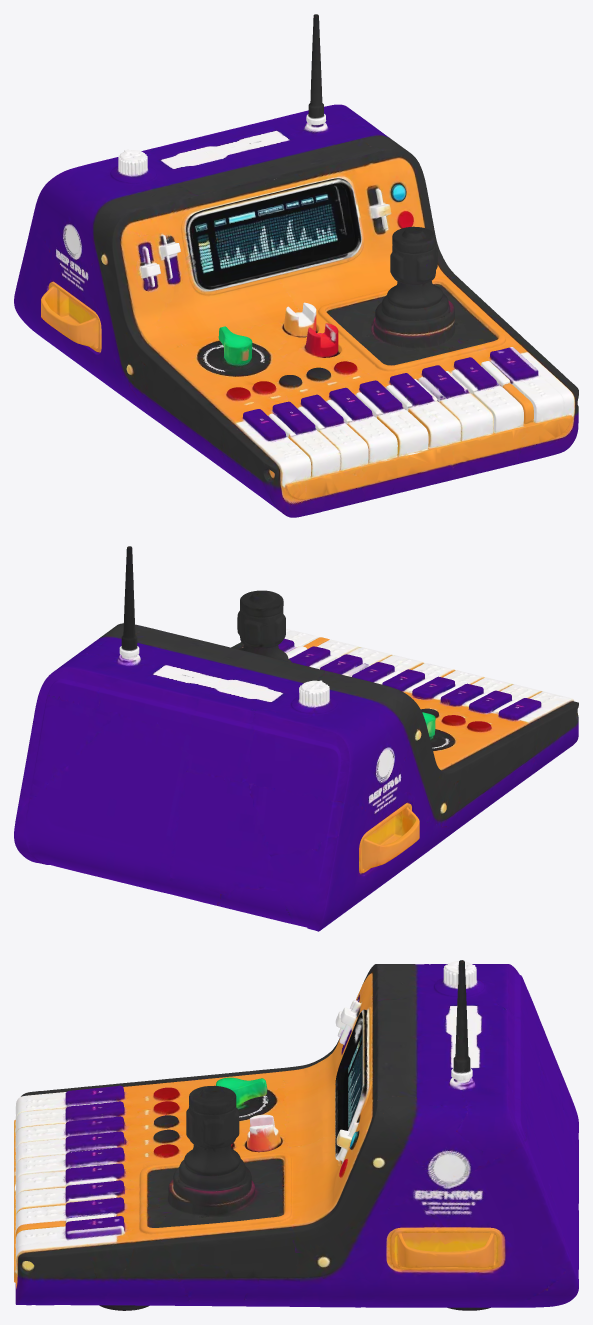
Rendered from Meshy_AI_Cosmic_Arcade_Console_0717200039_texture-optimized_aexkjw.glb.
3 renders of one model, top to bottom at view 1: azimuth 30°, elevation 25°; view 2: azimuth 150°, elevation 25°; view 3: azimuth 270°, elevation 25°, orthographic. The views are drawn at different scales.
Size of the model in its own units: 1.48 by 1.26 by 1.9.
1 material, 1 textured.
